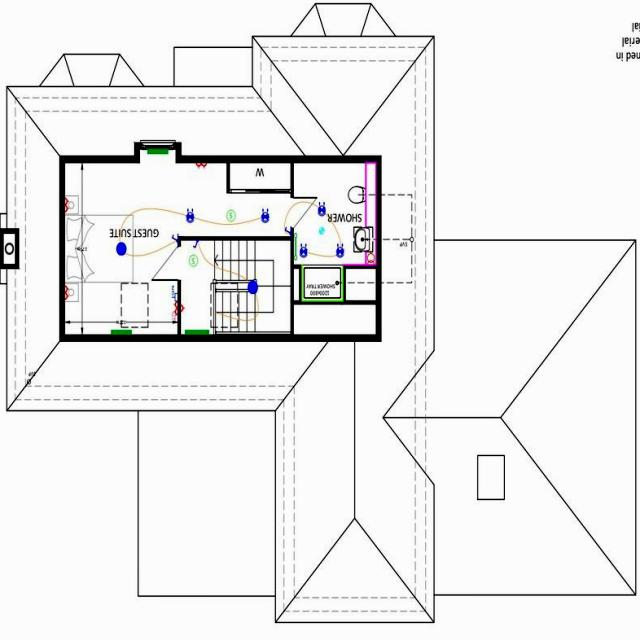Cat 6 Data Socket: (168, 289, 178, 305)
Ceiling Mounted Continuous Extract Fan With Boost Mode Activated By Light Switch: (316, 224, 326, 238)
Co-Ax TV Socket: (168, 316, 178, 323)
Double Socket: (63, 195, 75, 214), (63, 281, 71, 303), (189, 163, 211, 169), (170, 301, 178, 316)
Full Height Tiling: (300, 268, 344, 304)
Light Switch: (168, 233, 178, 248), (282, 224, 292, 238), (190, 240, 202, 250)
Low Energy Downlighter: (257, 207, 275, 225), (184, 206, 199, 226), (331, 242, 346, 261), (314, 200, 328, 219), (297, 243, 310, 261)
Low Energy Pendant Light: (244, 277, 264, 299), (110, 242, 129, 260)
Mains Wired Smoke Detector: (183, 255, 202, 272), (223, 209, 238, 226)
Radiator: (182, 328, 212, 337), (108, 327, 134, 337), (143, 149, 173, 156)
Shaver Socket: (364, 253, 375, 267)
Single Socket: (178, 302, 186, 315)
